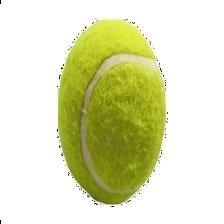Sports-Ball: (51, 16, 170, 206)
